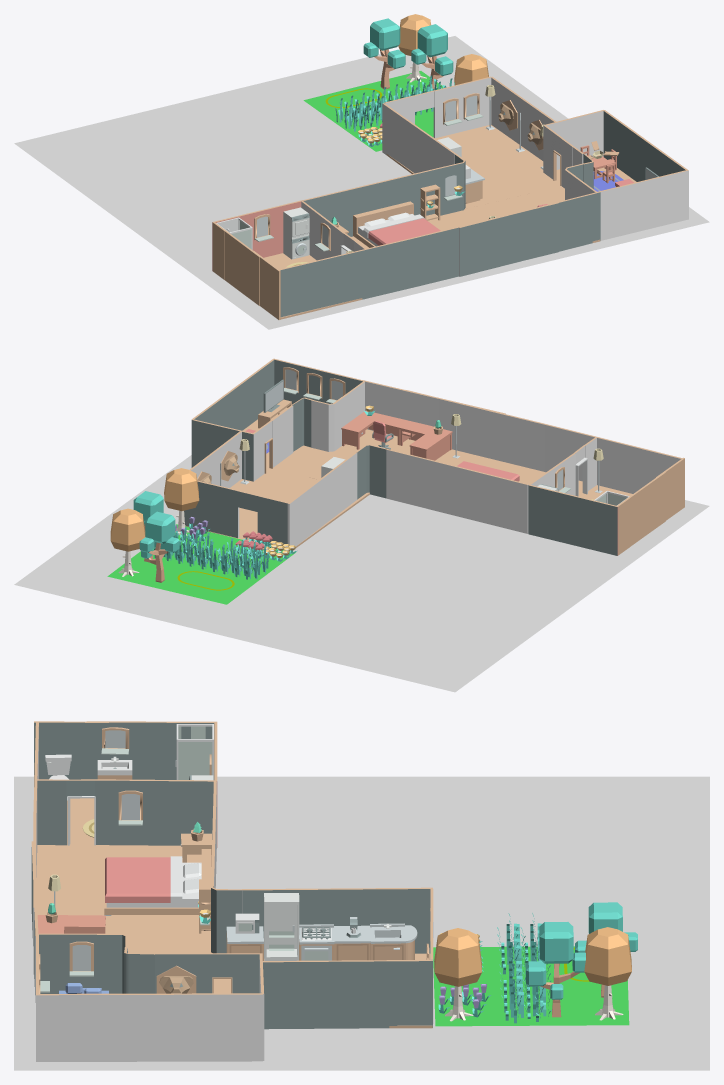
The model's file is livingroom-base.glb.
The picture shows the model from 3 angles, top to bottom: view 1: azimuth 30°, elevation 25°; view 2: azimuth 150°, elevation 25°; view 3: azimuth 270°, elevation 25°; orthographic projection. The views are drawn at different scales.
Visible parts, largest first — view 1: shower; view 2: shower; view 3: shower.
Part boxes in pixels (x1,y1,x2,y2): shower: (14, 14, 709, 329); shower: (14, 358, 709, 692); shower: (14, 721, 709, 1070).
Bounding box in the file's own units: 7.8 × 1.15 × 7.8.
